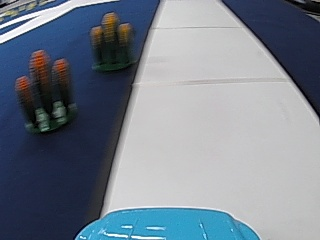corn: (14, 47, 75, 139), (88, 8, 136, 72)
